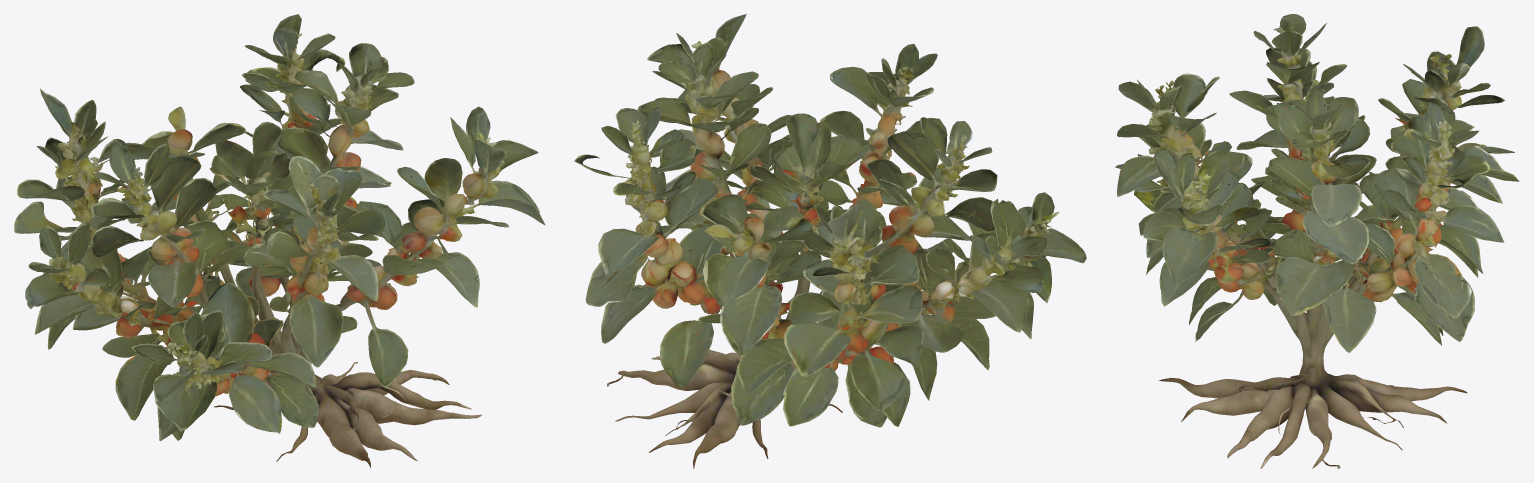
Rendered from ashwagandha3d.glb.
The picture shows the model from 3 angles, left to right: view 1: azimuth 30°, elevation 25°; view 2: azimuth 150°, elevation 25°; view 3: azimuth 270°, elevation 25°; orthographic projection. The views are drawn at different scales.
Parts seen in each view (by area): view 1: tmp1ksvbqsbobj; view 2: tmp1ksvbqsbobj; view 3: tmp1ksvbqsbobj.
Boxes of the visible parts, x1,y1,x2,y2 form: tmp1ksvbqsbobj: (14, 14, 545, 467); tmp1ksvbqsbobj: (574, 14, 1086, 468); tmp1ksvbqsbobj: (1115, 14, 1519, 468).
Size of the model in its own units: 0.9994 by 0.7606 by 0.8246.
Materials: 1 (1 with a texture image).
